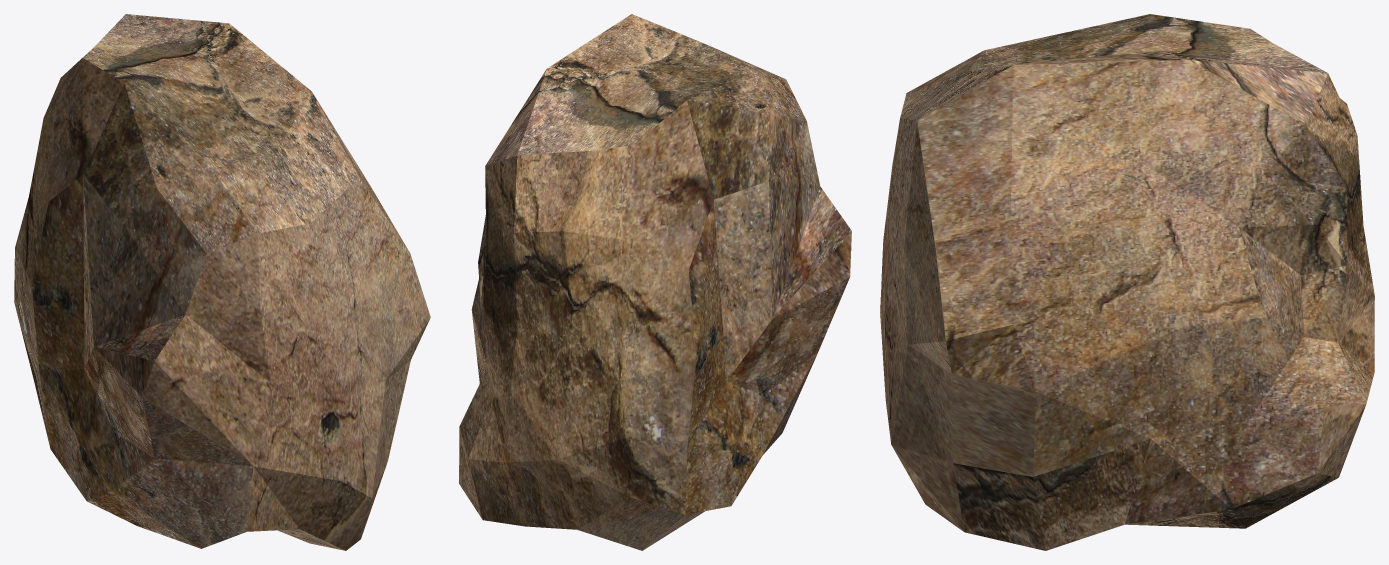
File: Rock2.dae
3 views of the same model, side by side, from view 1: azimuth 30°, elevation 25°; view 2: azimuth 150°, elevation 25°; view 3: azimuth 270°, elevation 25° (orthographic). The views are drawn at different scales.
Visible parts, largest first — view 1: node; view 2: node; view 3: node.
Boxes of the visible parts, <box> form: node: <box>14,14,430,550</box>; node: <box>459,14,851,550</box>; node: <box>880,14,1374,550</box>.
Size of the model in its own units: 4.25 by 6.56 by 6.15.
Materials: 1 (1 with a texture image).
